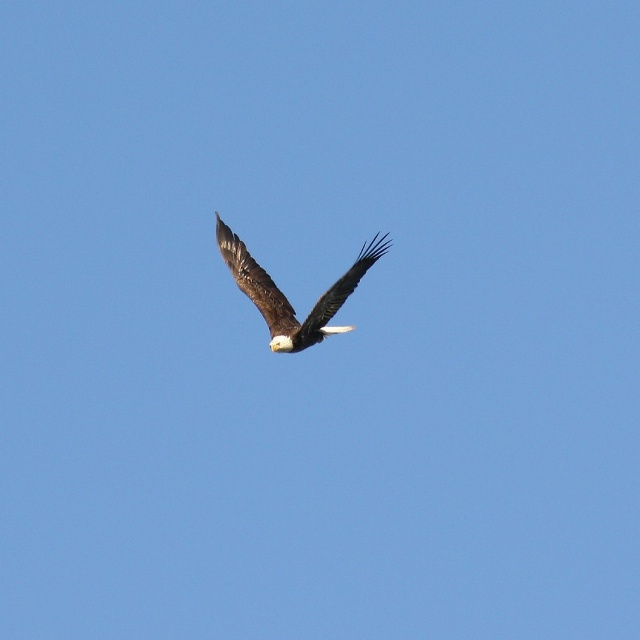Eagle: (216, 209, 398, 366)
